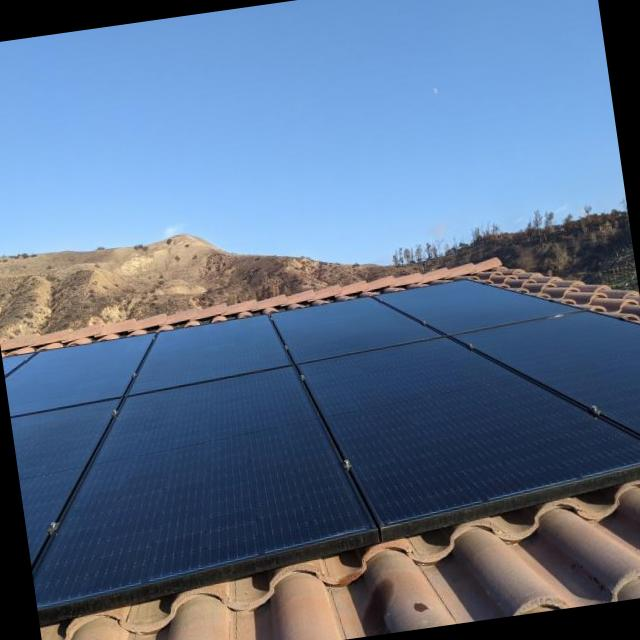no faulty: (39, 367, 368, 605), (312, 345, 640, 523), (458, 315, 640, 438), (16, 401, 121, 551), (131, 312, 287, 392), (6, 331, 143, 415), (390, 279, 577, 336), (276, 294, 445, 356)
